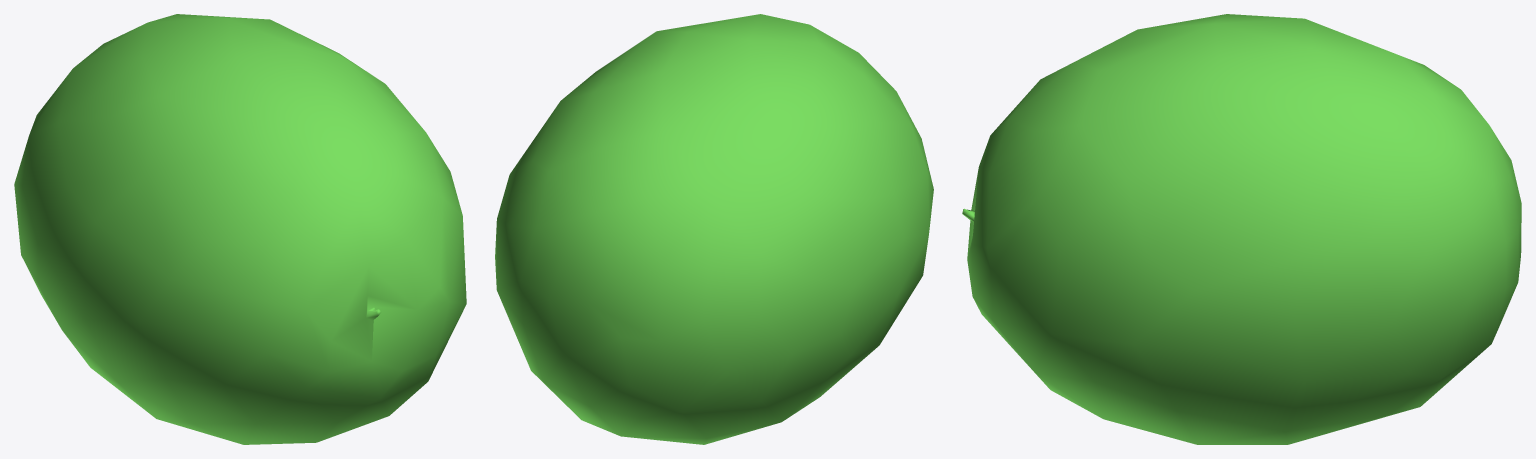
The model's file is melon.obj.
The picture shows the model from 3 angles, left to right: view 1: azimuth 30°, elevation 25°; view 2: azimuth 150°, elevation 25°; view 3: azimuth 270°, elevation 25°; orthographic projection. The views are drawn at different scales.
Visible parts, largest first — view 1: melon; view 2: melon; view 3: melon.
Boxes of the visible parts, x1,y1,x2,y2 form: melon: (14, 14, 466, 444); melon: (495, 14, 933, 444); melon: (962, 14, 1521, 444).
Size of the model in its own units: 0.1767 by 0.1805 by 0.2356.
